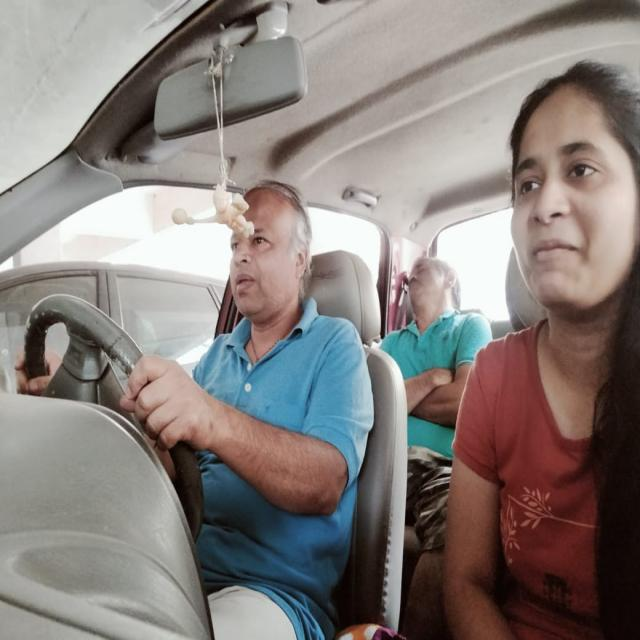person: (507, 57, 640, 326), (225, 179, 315, 317), (400, 256, 462, 318)
